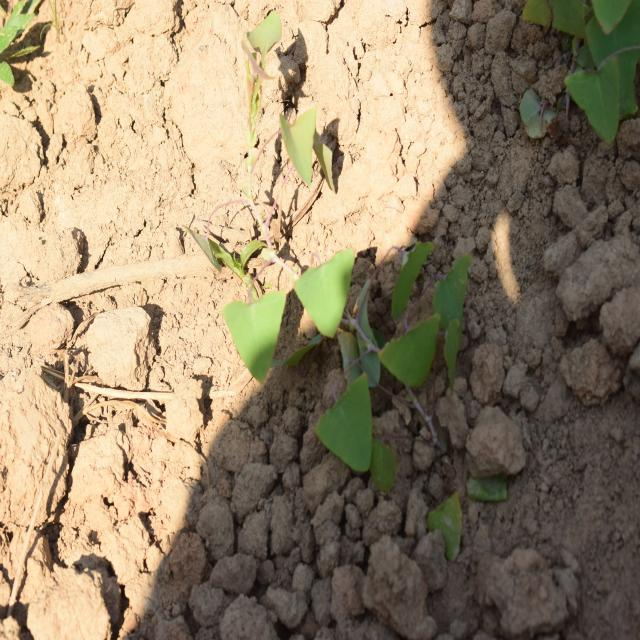Asiatic_Smartweed: (220, 247, 432, 465)
